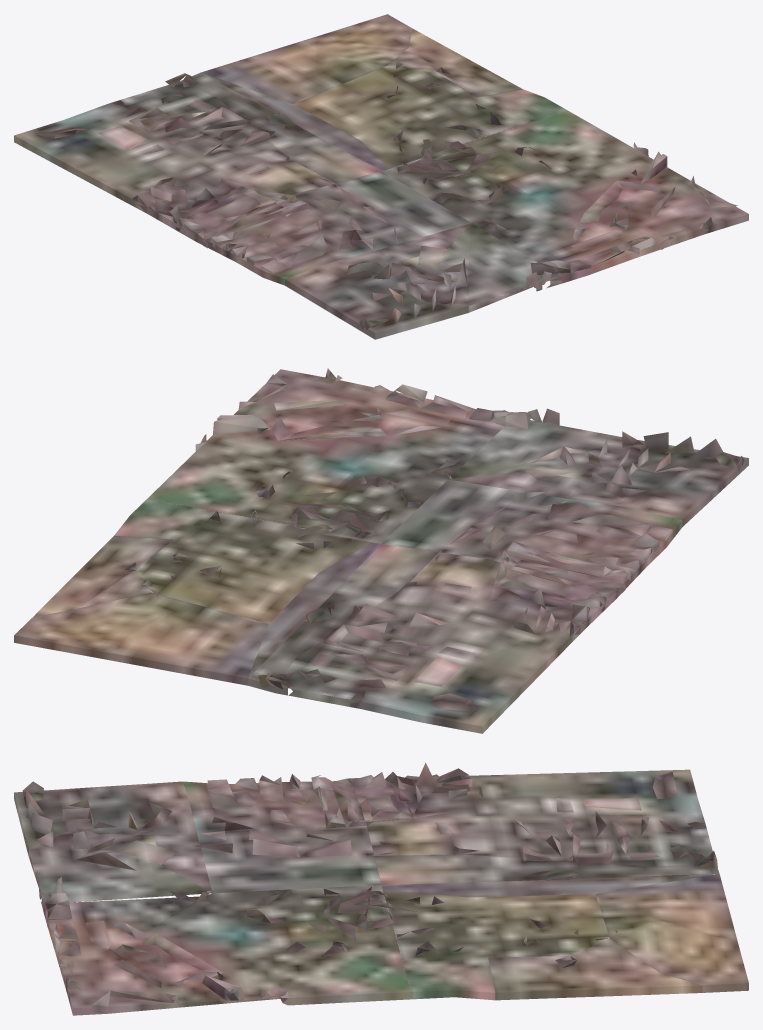
3 views of the same model, one above another, from view 1: azimuth 30°, elevation 25°; view 2: azimuth 150°, elevation 25°; view 3: azimuth 270°, elevation 25° (orthographic). The views are drawn at different scales.
Parts seen in each view (by area): view 1: Mesh_0; view 2: Mesh_0; view 3: Mesh_0.
Boxes of the visible parts, left/top/right/bottom form: Mesh_0: left=14, top=14, right=748, bottom=339; Mesh_0: left=14, top=368, right=748, bottom=733; Mesh_0: left=14, top=762, right=748, bottom=1015.
Size of the model in its own units: 1065 by 69.5 by 1318.
Materials: 1 (1 with a texture image).
